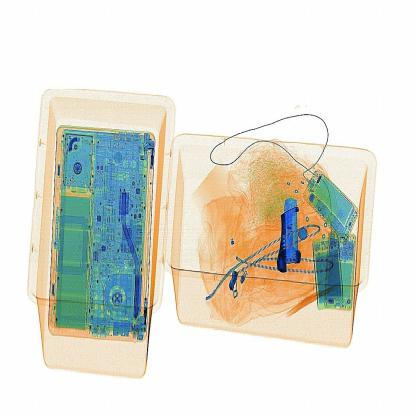pliers: (268, 186, 307, 270)
